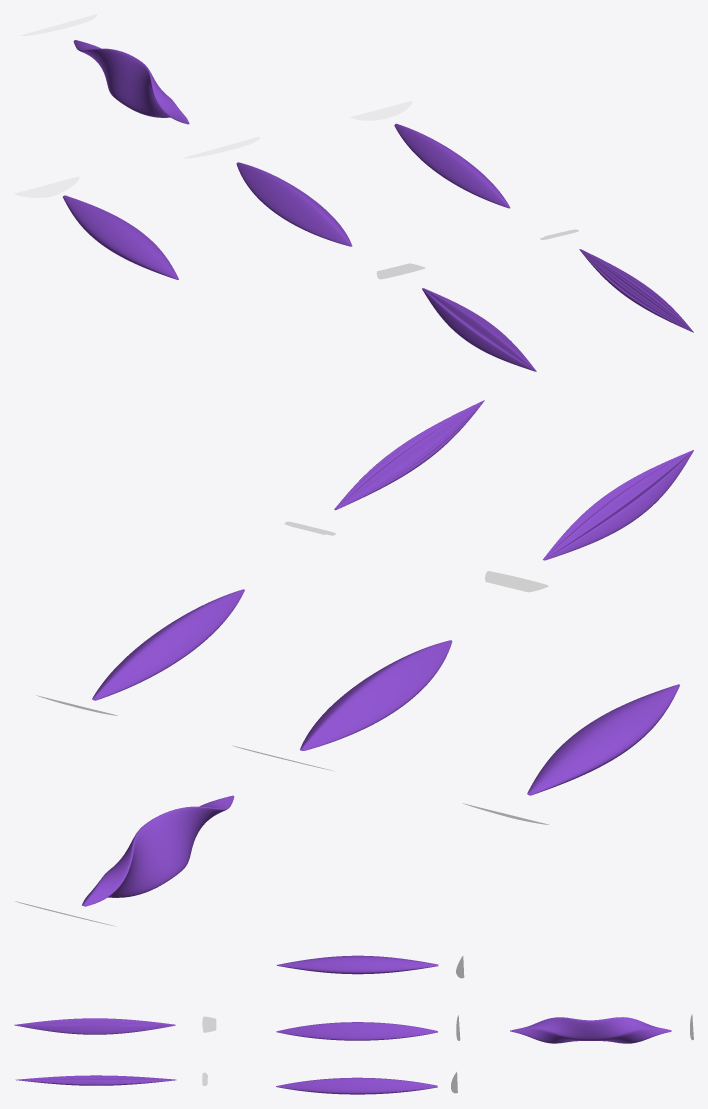
Rendered from HairCollection.fbx.
3 renders of one model, top to bottom at view 1: azimuth 30°, elevation 25°; view 2: azimuth 150°, elevation 25°; view 3: azimuth 270°, elevation 25°, orthographic. The views are drawn at different scales.
Parts seen in each view (by area): view 1: NurbsPath.005, NurbsPath, NurbsPath.001, NurbsPath.002, NurbsPath.003, NurbsPath.004, BezierCircle.001; view 2: NurbsPath.005, NurbsPath, NurbsPath.001, NurbsPath.002, NurbsPath.003, NurbsPath.004; view 3: NurbsPath.005, NurbsPath, NurbsPath.001, NurbsPath.002, NurbsPath.003, NurbsPath.004.
Part boxes in pixels (x1,y1,x2,y2): NurbsPath.005: [73, 40, 189, 124]; NurbsPath: [236, 162, 352, 246]; NurbsPath.001: [63, 195, 178, 279]; NurbsPath.002: [394, 123, 510, 208]; NurbsPath.003: [422, 288, 536, 371]; NurbsPath.004: [579, 249, 693, 332]; BezierCircle.001: [14, 176, 79, 197]; NurbsPath.005: [82, 795, 234, 906]; NurbsPath: [300, 640, 452, 750]; NurbsPath.001: [527, 684, 679, 795]; NurbsPath.002: [92, 589, 244, 700]; NurbsPath.003: [543, 450, 693, 560]; NurbsPath.004: [334, 400, 484, 510]; NurbsPath.005: [510, 1017, 671, 1043]; NurbsPath: [276, 1022, 437, 1040]; NurbsPath.001: [276, 955, 438, 974]; NurbsPath.002: [276, 1077, 437, 1094]; NurbsPath.003: [14, 1018, 175, 1034]; NurbsPath.004: [15, 1075, 176, 1085].
Bounding box in the file's own units: 751 × 69.42 × 1576.
